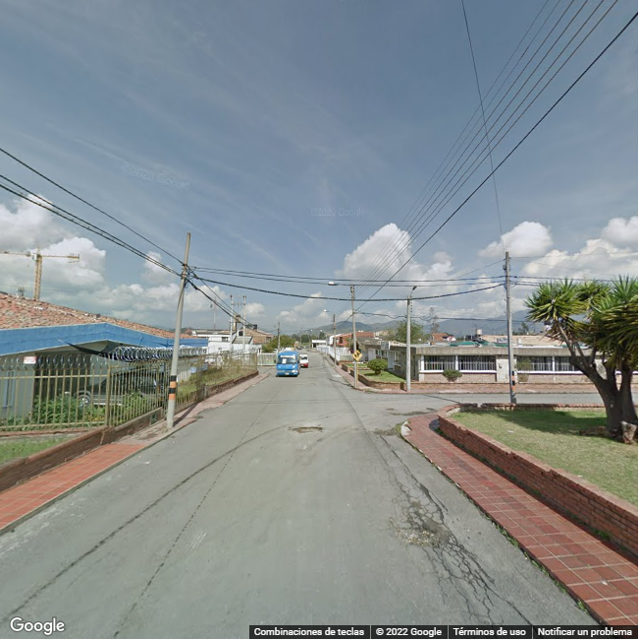D00: (434, 550, 476, 620), (478, 589, 497, 626)
D40: (403, 519, 455, 547)
